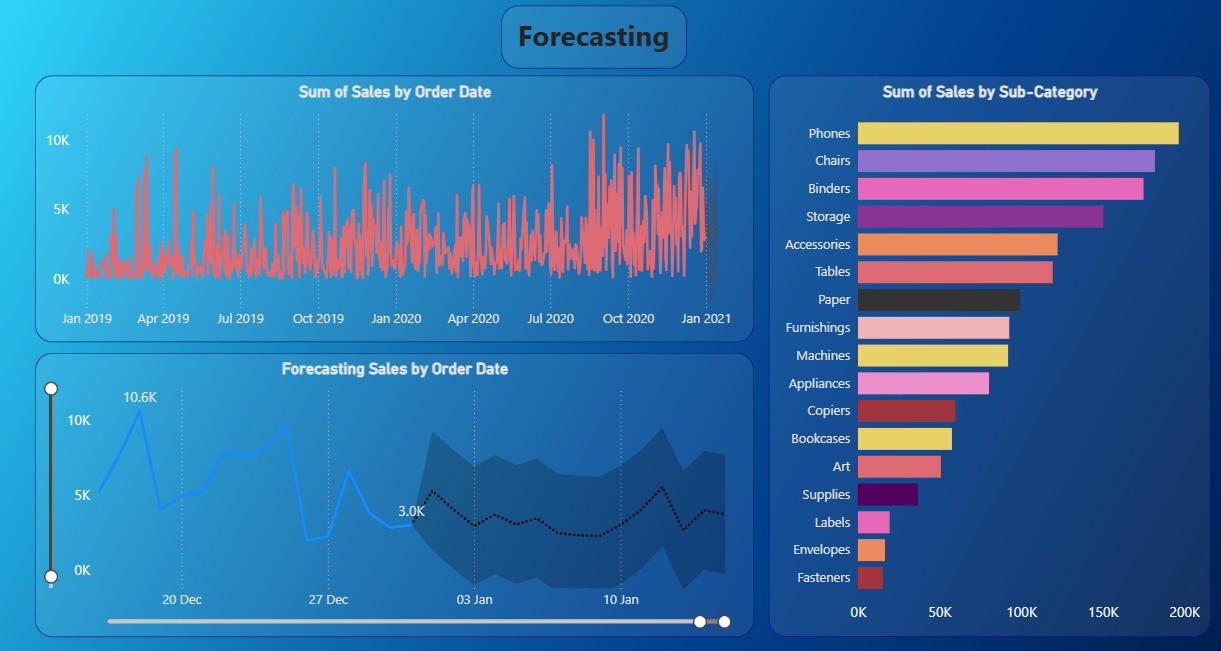

Layout of this report page (visuals, bound fields, positions):
{"tool":"powerbi","page":{"name":"Page 3","canvas":[1400,750],"ordinal":1},"visuals":[{"type":"lineChart","fields":{"Y":["Sum(SuperStore_Sales_Dataset.Sales)"],"Category":["SuperStore_Sales_Dataset.Order Date"]},"box":[40,88.3,821.7,305],"z":0},{"type":"lineChart","title":"Forecasting Sales by Order Date","fields":{"Y":["Sum(SuperStore_Sales_Dataset.Sales)"],"Category":["SuperStore_Sales_Dataset.Order Date"]},"box":[40,405,821.7,325],"z":1000},{"type":"textbox","box":[573.3,8.3,211.7,71.7],"z":2000},{"type":"clusteredBarChart","fields":{"Category":["SuperStore_Sales_Dataset.Sub-Category"],"Y":["Sum(SuperStore_Sales_Dataset.Sales)"]},"box":[878.3,88.3,505,641.7],"z":3000}]}

Visuals, with their boxes in screenshot pixels (x1, y1, x2, y2), scaled from the page's 1400x750 canvas onto the 1221x651 screenshot:
lineChart - Sum(SuperStore_Sales_Dataset.Sales) x SuperStore_Sales_Dataset.Order Date: 35/77/752/341
"Forecasting Sales by Order Date" lineChart: 35/352/752/634
textbox: 500/7/685/69
clusteredBarChart - SuperStore_Sales_Dataset.Sub-Category x Sum(SuperStore_Sales_Dataset.Sales): 766/77/1206/634
